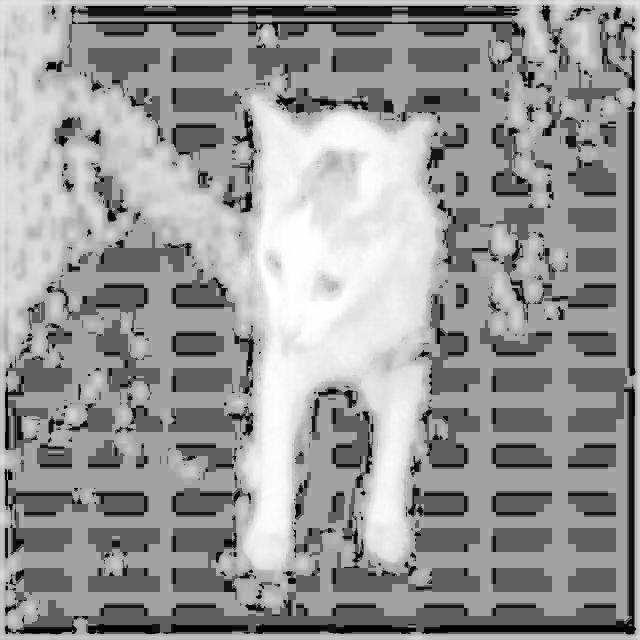Cat: (239, 77, 436, 568)
